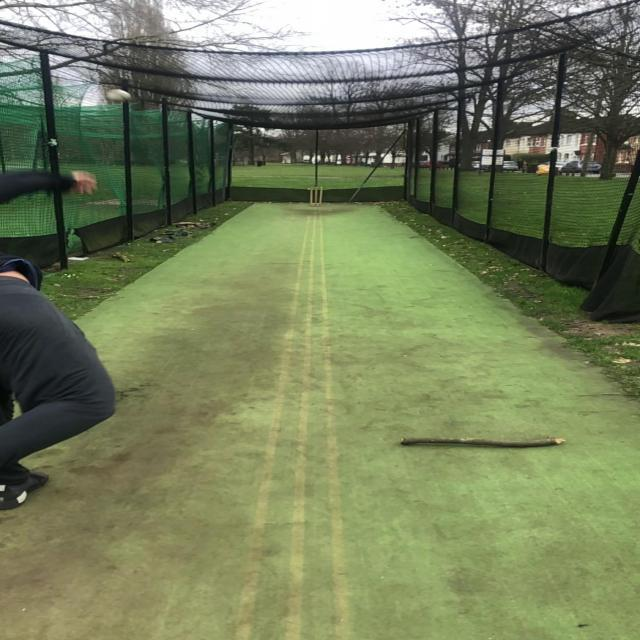ball: (104, 88, 132, 104)
